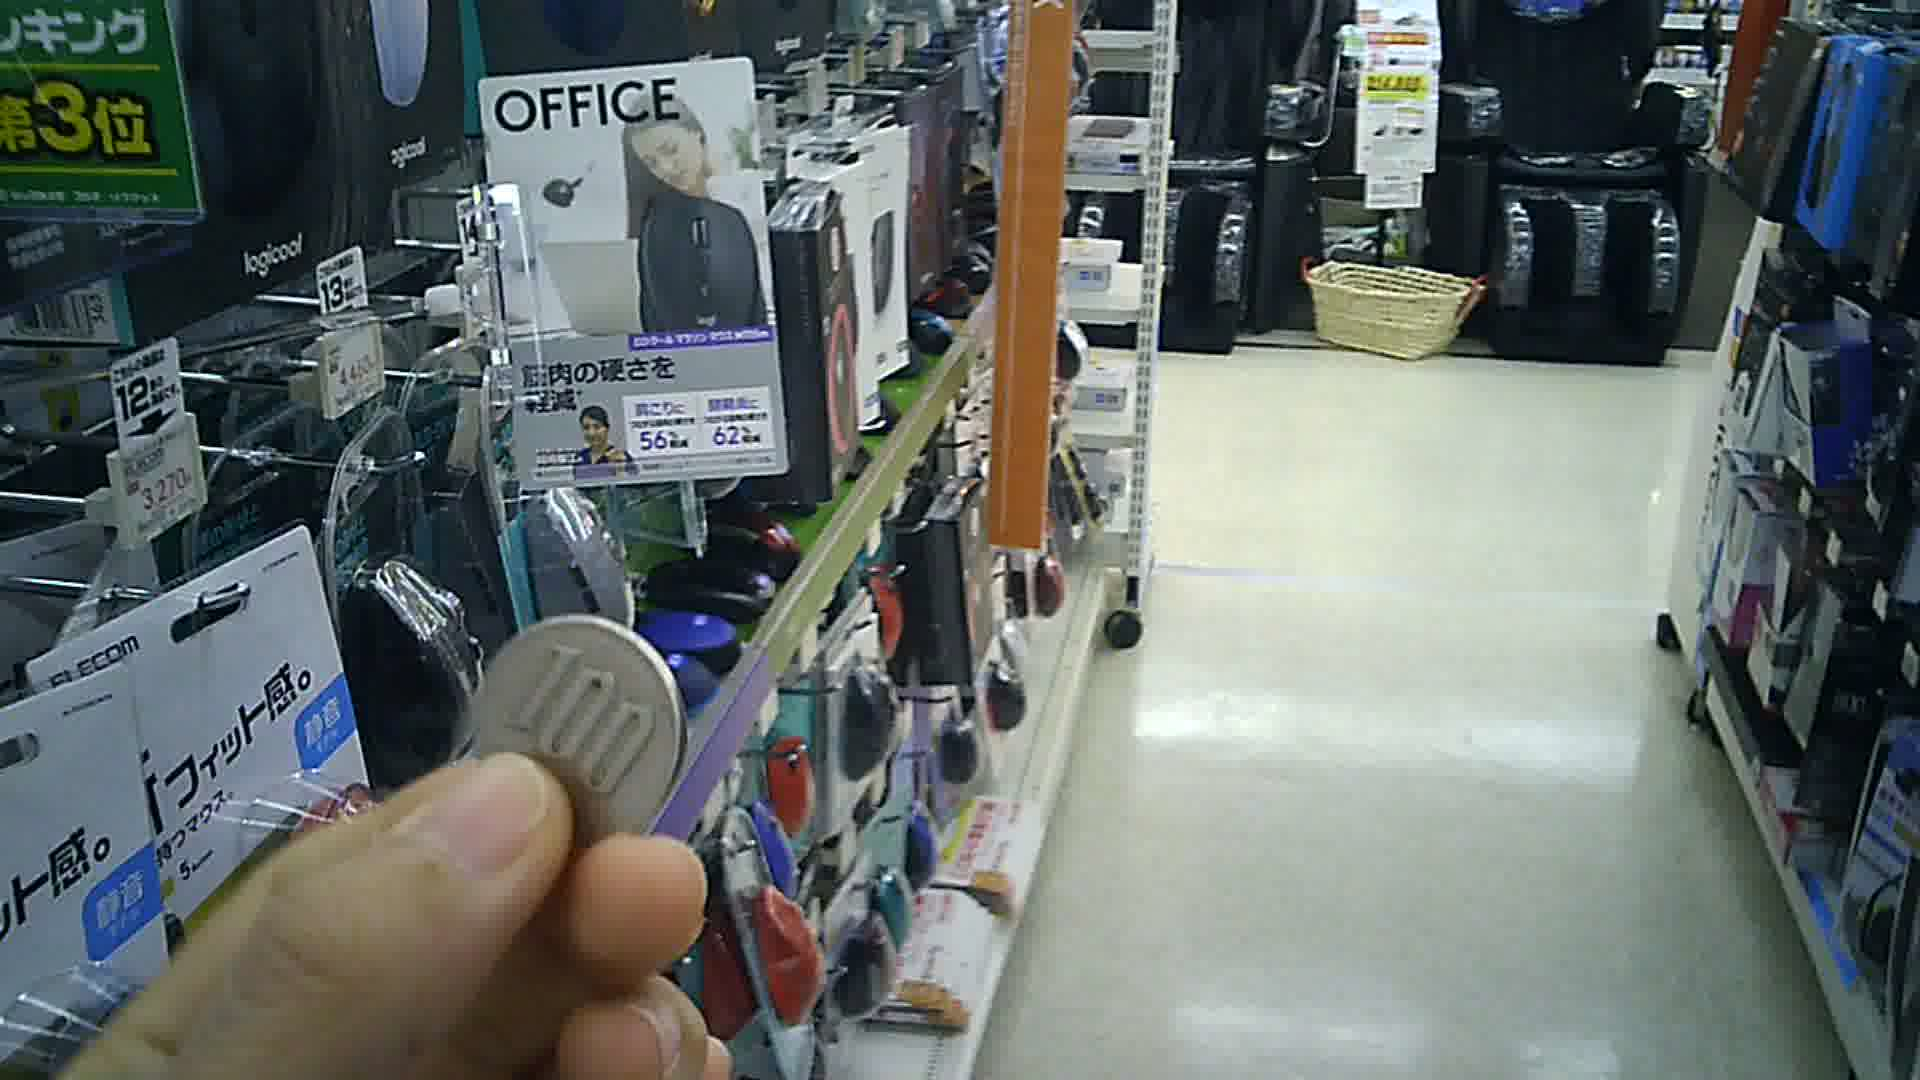100 Yen: (469, 615, 709, 865)
